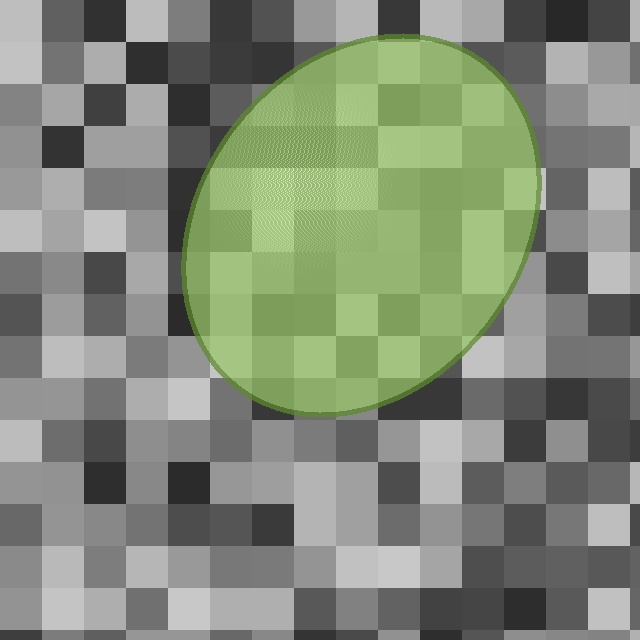lens: (183, 35, 539, 415)
